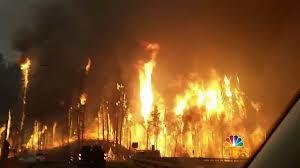fire: (138, 56, 154, 127), (19, 55, 31, 102)
